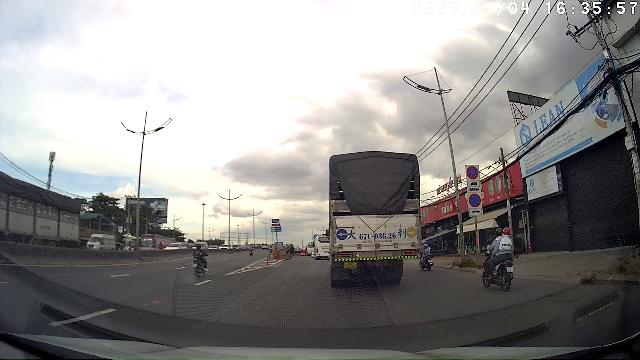130-cam-dung-va-do-xe: (466, 165, 478, 179)
131a-cam-do-xe: (469, 193, 481, 207)
